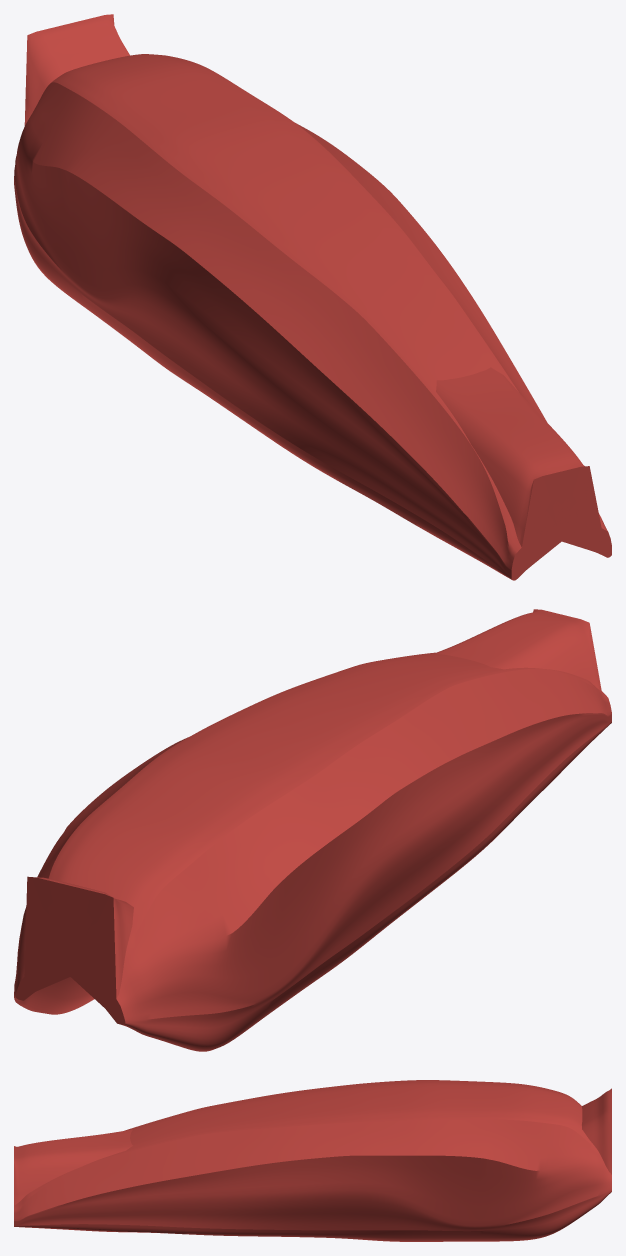
The model's file is bobber_4.glb.
3 renders of one model, top to bottom at view 1: azimuth 30°, elevation 25°; view 2: azimuth 150°, elevation 25°; view 3: azimuth 270°, elevation 25°, orthographic. The views are drawn at different scales.
Parts seen in each view (by area): view 1: lod0; view 2: lod0; view 3: lod0.
Part boxes in pixels (<box>): lod0: <box>14,14,611,580</box>; lod0: <box>14,609,611,1051</box>; lod0: <box>14,1080,611,1241</box>.
Size of what is drawn, in the model's own units: 0.2778 by 0.2408 by 1.06.
